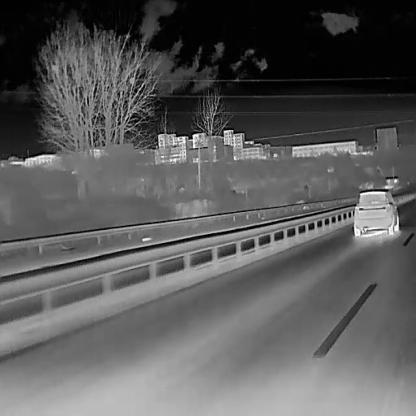car: (353, 188, 399, 237)
